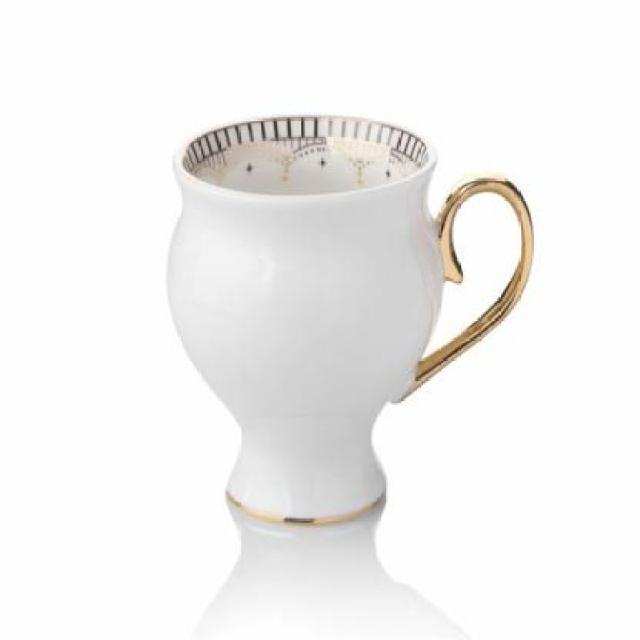taza: (165, 114, 536, 529)
